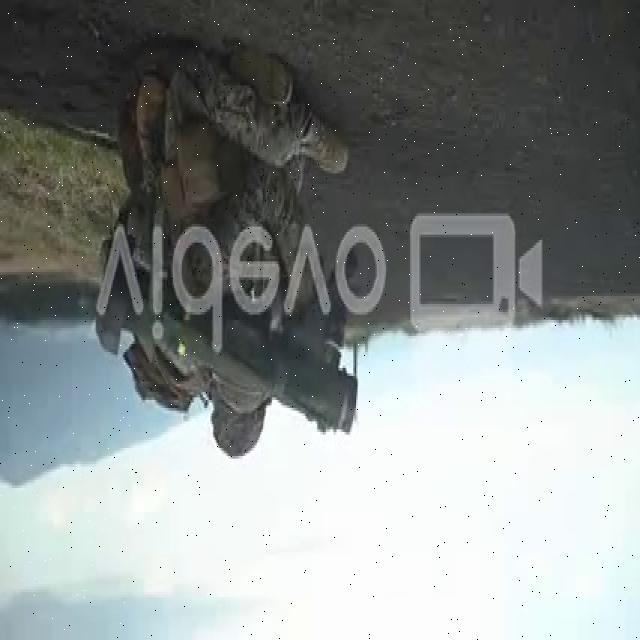bazooka: (92, 237, 363, 440)
